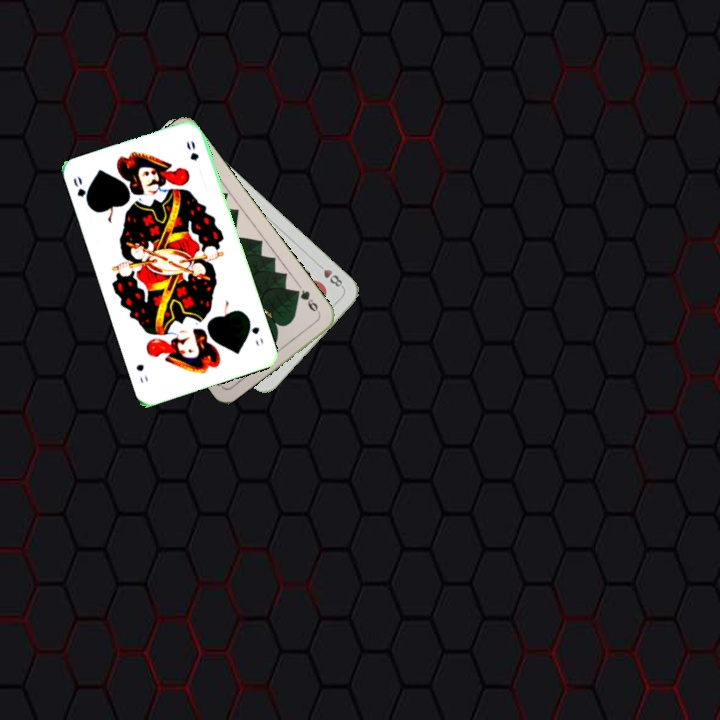G9: (291, 285, 323, 317)
GO: (69, 172, 93, 211), (244, 314, 266, 349)
H8: (313, 259, 346, 291)
